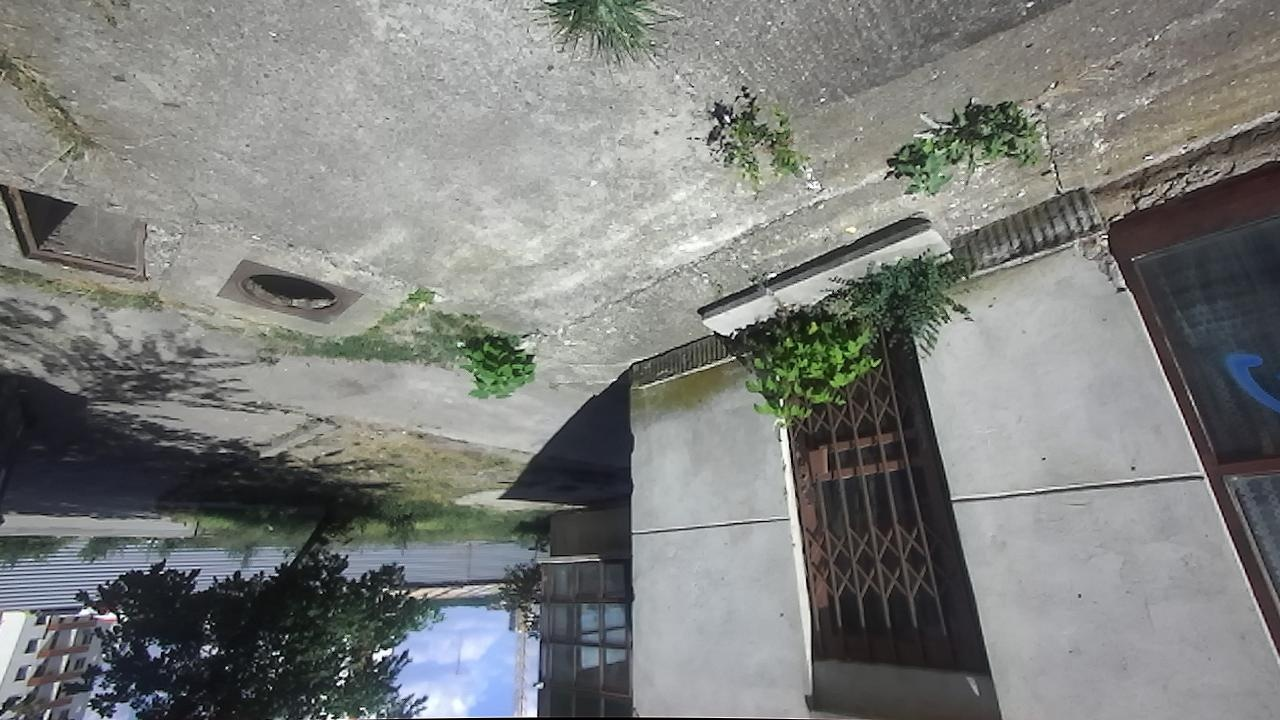drain: (0, 179, 148, 282), (232, 268, 358, 315)
